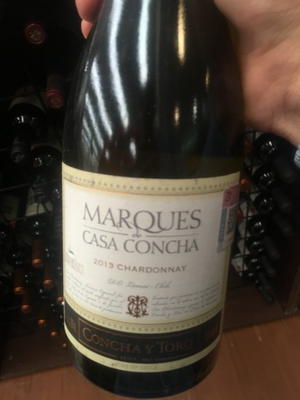marques de casa concha chardonnay: (52, 7, 245, 384)
